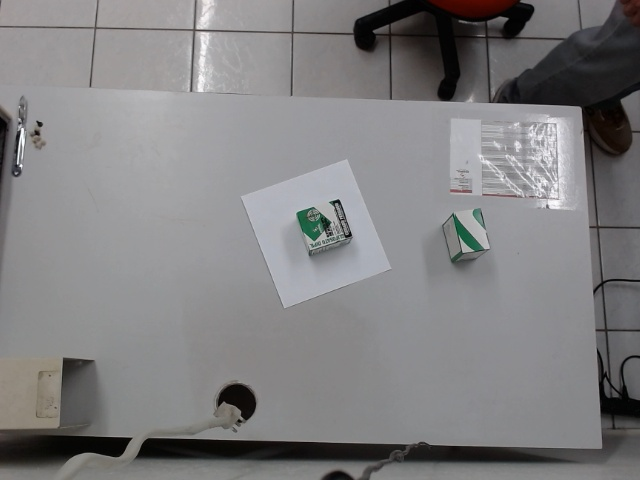divisor: (238, 157, 395, 311)
item: (291, 199, 358, 256), (440, 205, 492, 265)
